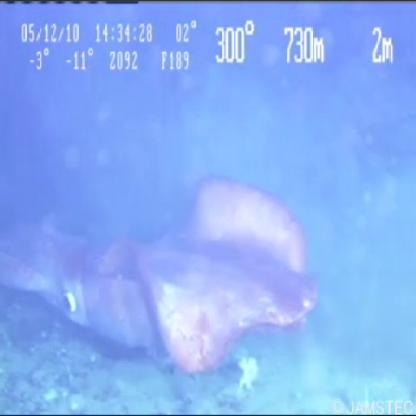Bio: (1, 169, 324, 382)
